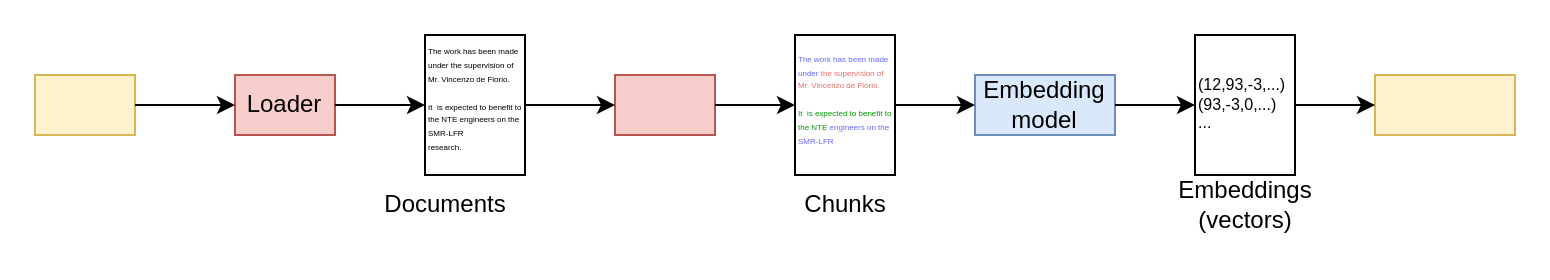
Image size: 1550x280. Some labels were removed from this diagram. Each missing label, with the centre of its shape:
"Database" belongs at [1444,104].
"File" belongs at [84,104].
"Splitter" belongs at [664,104].
